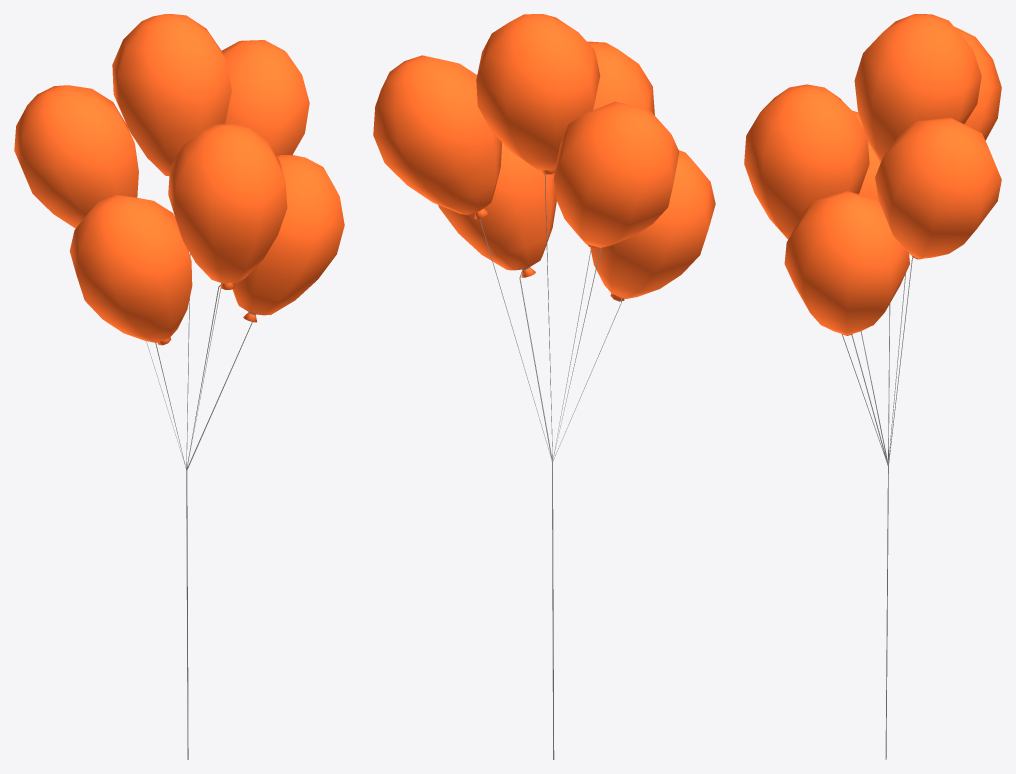
Rendered from BalloonBunchOrange.glb.
The picture shows the model from 3 angles, left to right: view 1: azimuth 30°, elevation 25°; view 2: azimuth 150°, elevation 25°; view 3: azimuth 270°, elevation 25°; orthographic projection. The views are drawn at different scales.
Parts seen in each view (by area): view 1: BalloonBunchOrange; view 2: BalloonBunchOrange; view 3: BalloonBunchOrange.
Boxes of the visible parts, x1=… form: BalloonBunchOrange: x1=14, y1=14, x2=344, y2=759; BalloonBunchOrange: x1=373, y1=14, x2=715, y2=759; BalloonBunchOrange: x1=744, y1=14, x2=1001, y2=759.
Bounding box in the file's own units: 1.32 × 3.26 × 1.03.
Materials: 1 (1 with a texture image).
